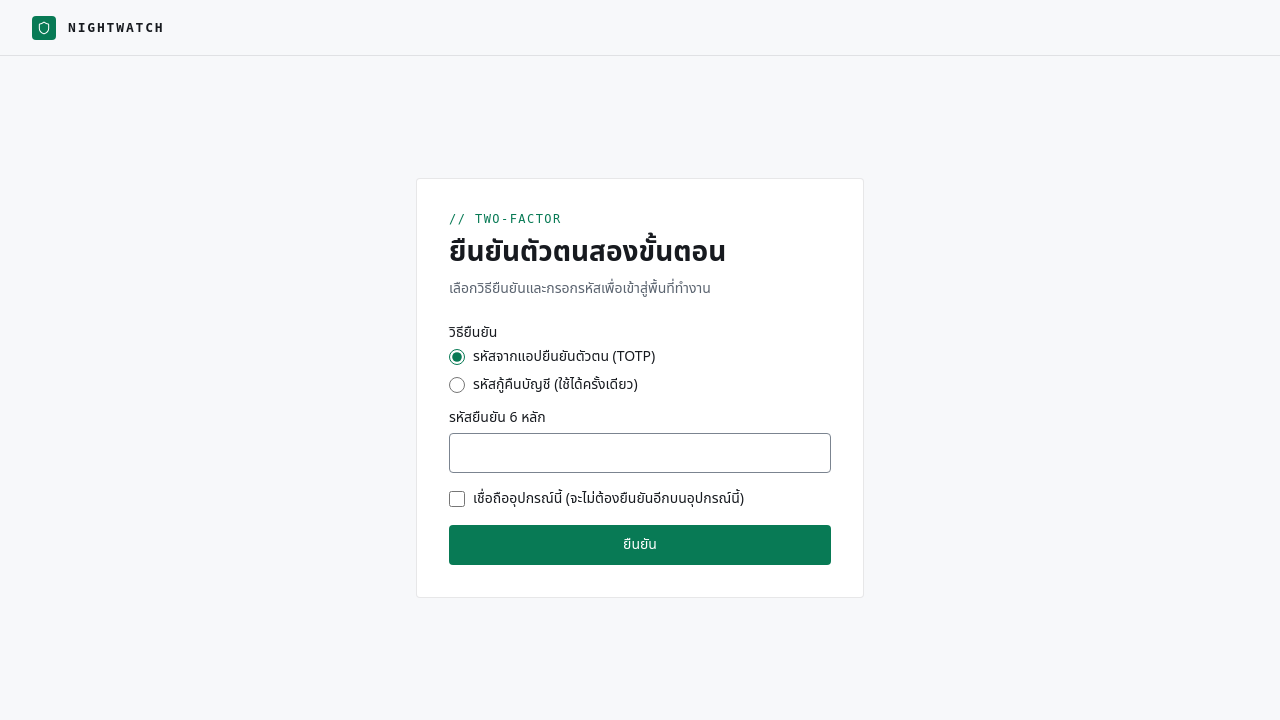
Test: TwoFactorPage challenge › an invalid or replayed recovery code stays pending with a visible error
The image size is (1280, 720).
Click the radio button with test id "two-factor-mode-recovery": (457, 385) [449,377,465,393]
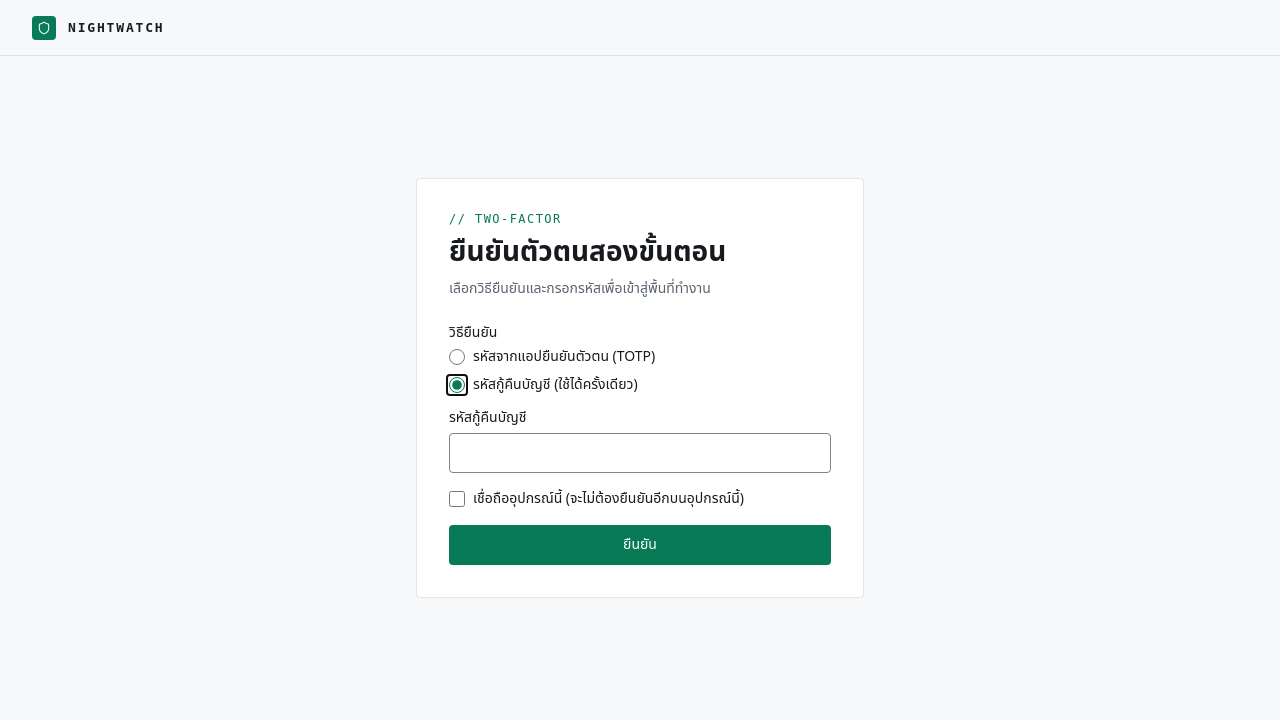
In the field with test id "two-factor-code": (640, 453) [449,433,831,473], type "used-code"
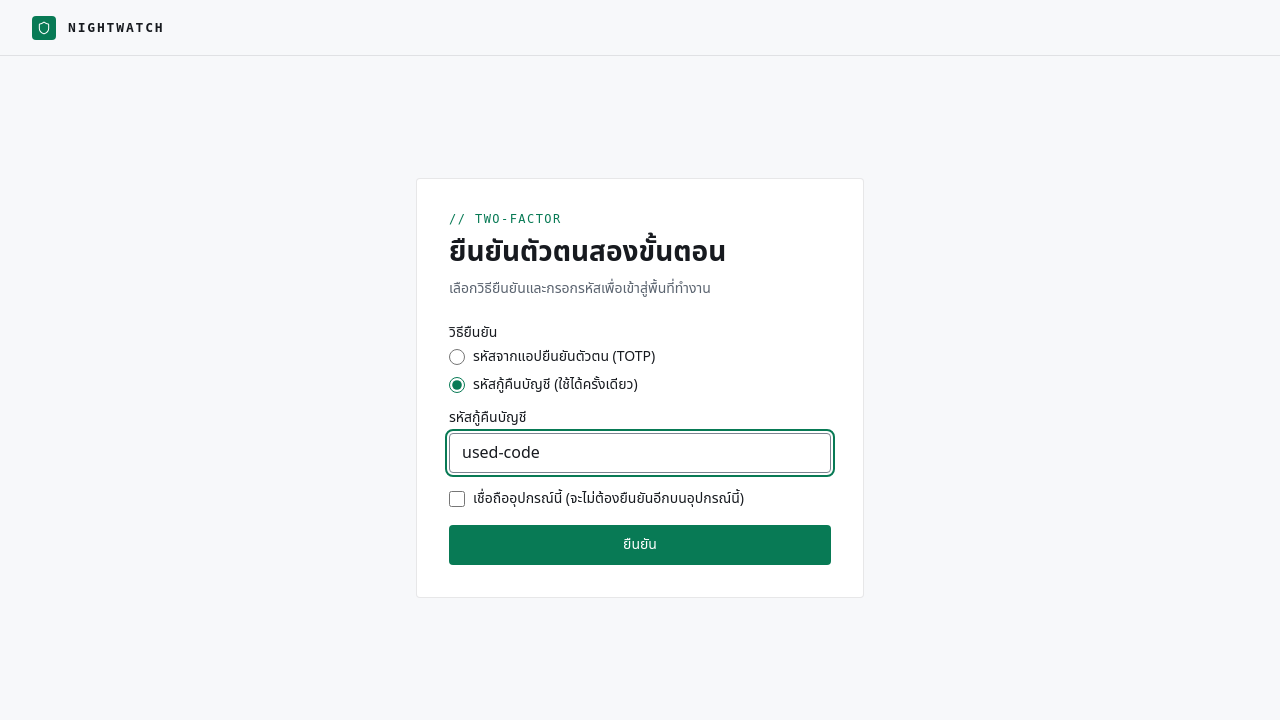
Click the button with test id "two-factor-submit": (640, 545) [449,525,831,565]
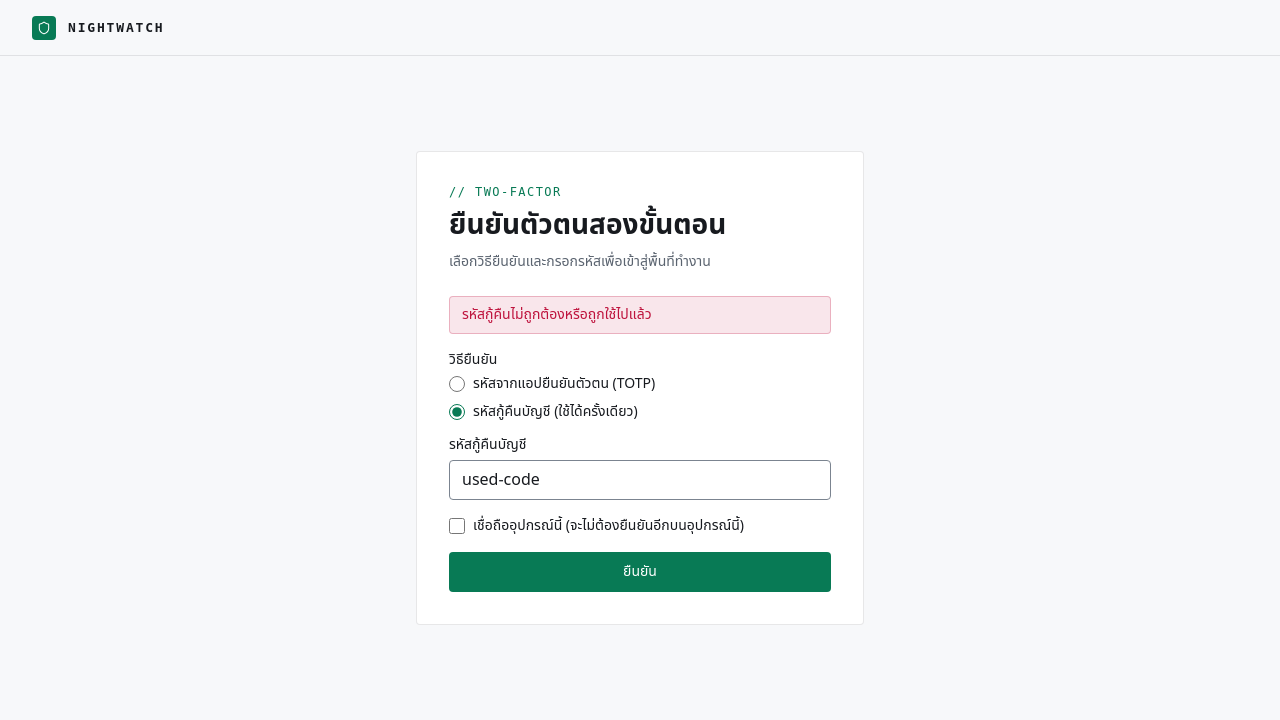
Expected: the button with test id "two-factor-submit" is enabled, [449,552,831,592]
Now the radio button with test id "two-factor-mode-recovery" is checked, box [449,404,465,420]
Now the message "รหัสกู้คืนไม่ถูกต้องหรือถูกใช้ไปแล้ว" is shown, box [449,296,831,334]
